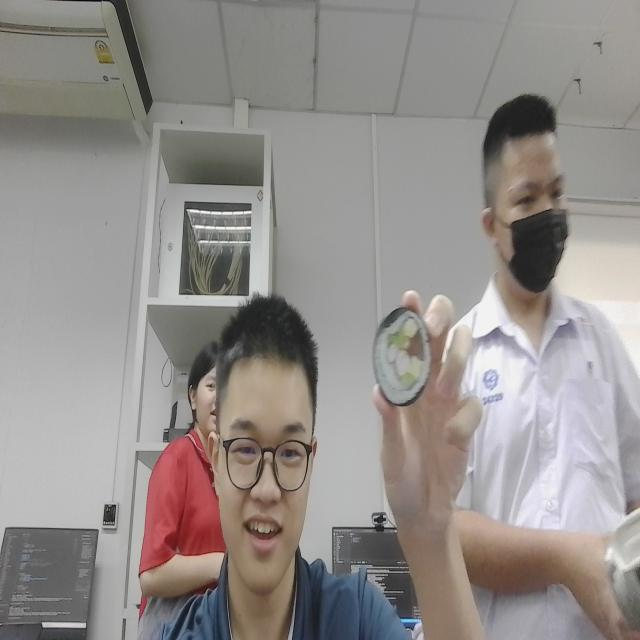sushi: (366, 299, 440, 425)
